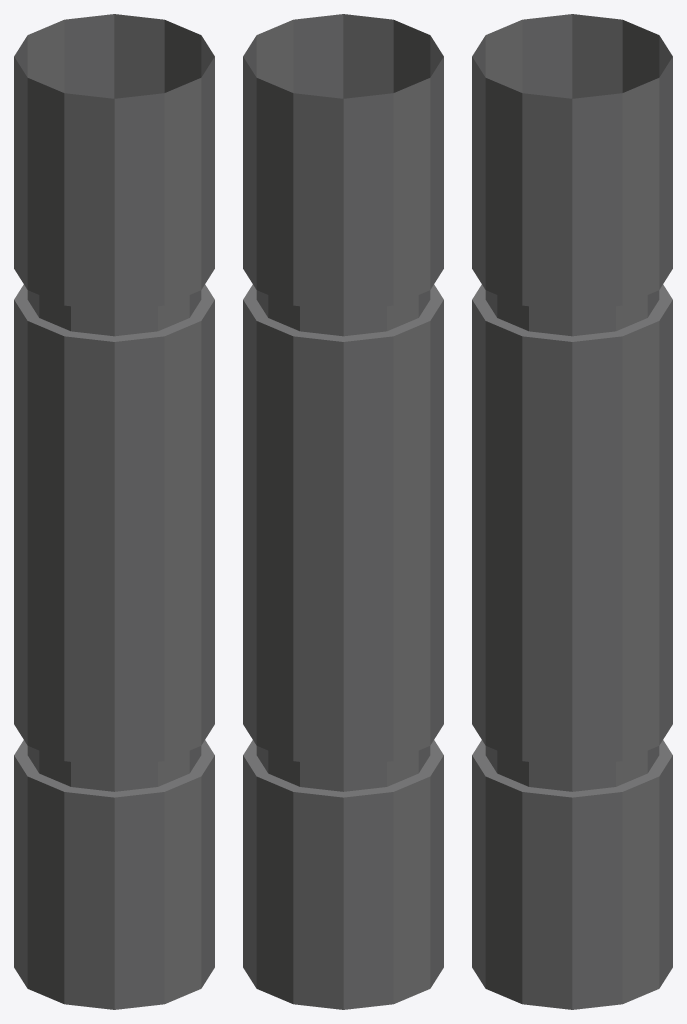
Rendered from SM_pillar_02.glb.
3 views of the same model, side by side, from view 1: azimuth 30°, elevation 25°; view 2: azimuth 150°, elevation 25°; view 3: azimuth 270°, elevation 25° (orthographic).
Parts seen in each view (by area): view 1: SM_Pillar_02; view 2: SM_Pillar_02; view 3: SM_Pillar_02.
Boxes of the visible parts, box(x1,y1,x2,y2) form: SM_Pillar_02: box(14, 14, 214, 1009); SM_Pillar_02: box(243, 14, 443, 1009); SM_Pillar_02: box(472, 14, 672, 1009).
Bounding box in the file's own units: 0.3994 × 2 × 0.3994.
Materials: 1 (1 with a texture image).
